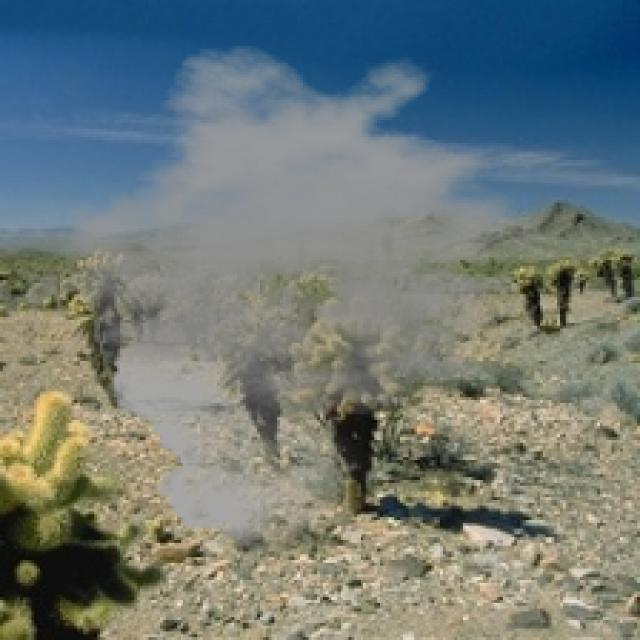smoke: (43, 43, 577, 557)
